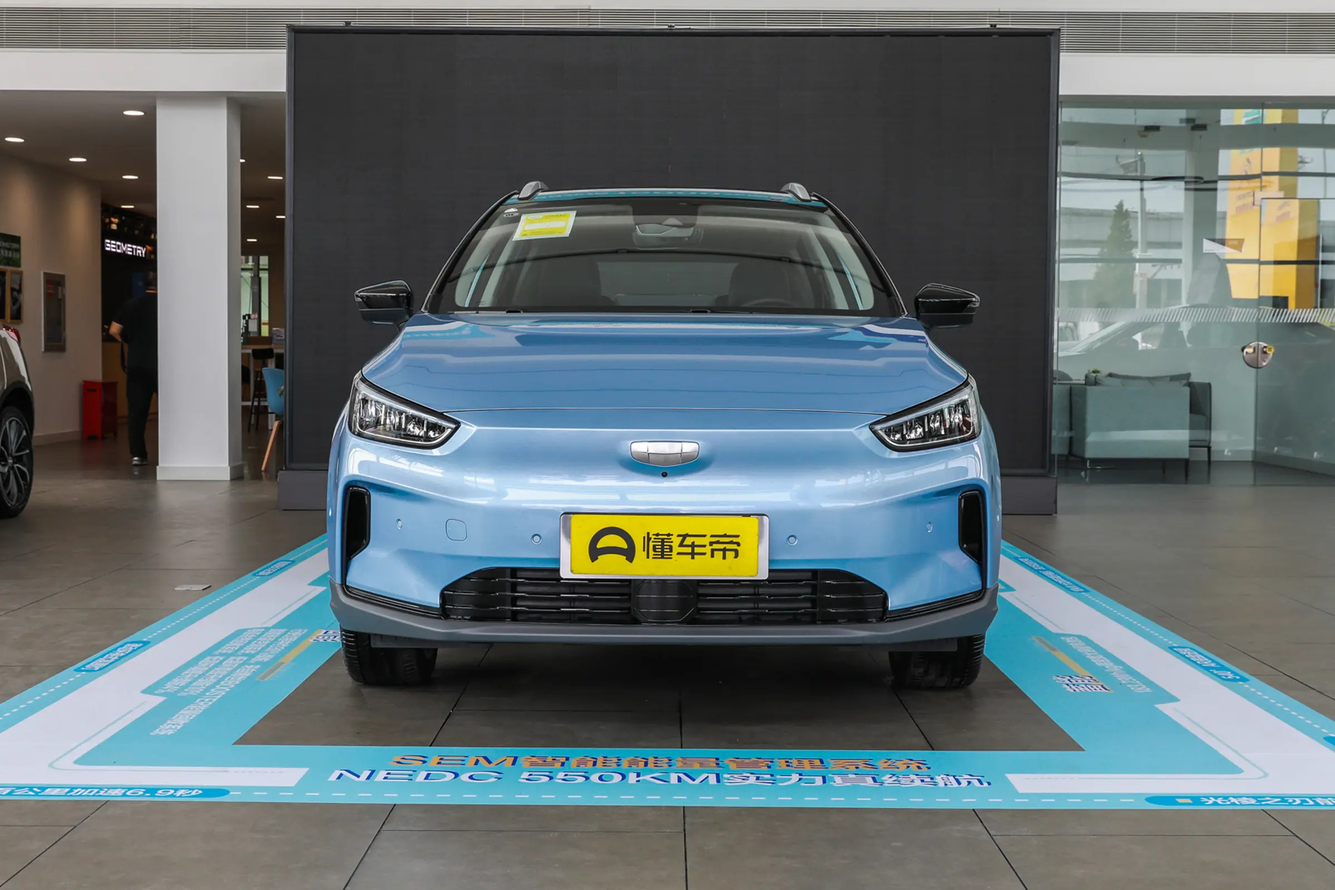GEOMETRY: (631, 442, 698, 466)
